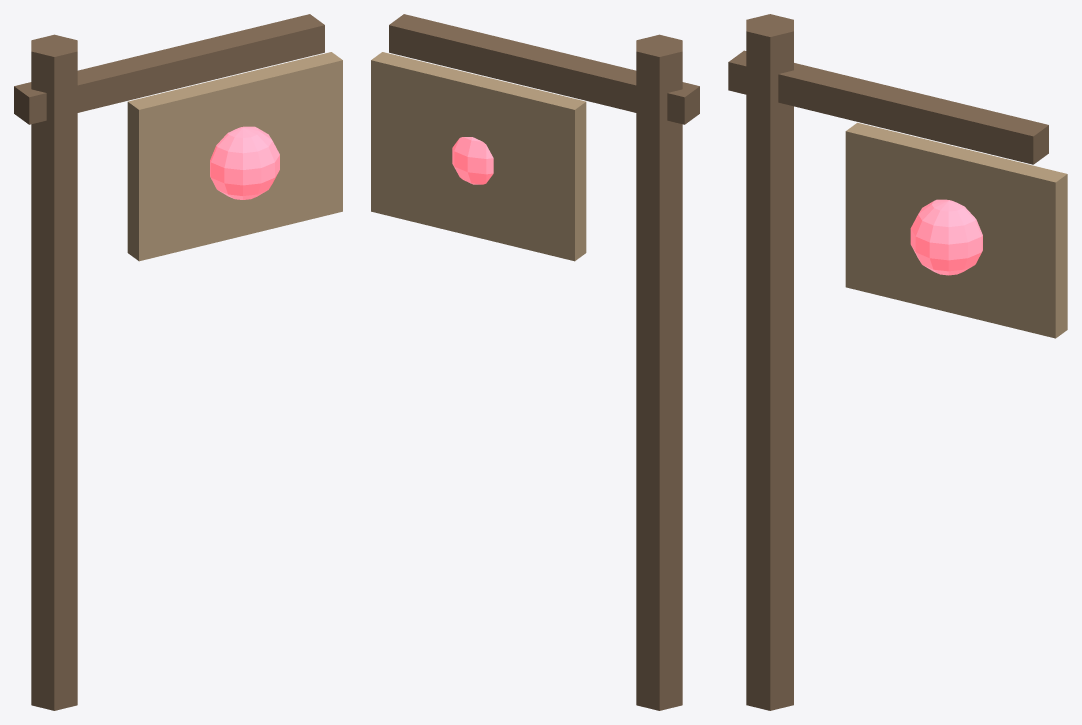
File: shop_sign.glb
3 views of the same model, side by side, from view 1: azimuth 30°, elevation 25°; view 2: azimuth 150°, elevation 25°; view 3: azimuth 330°, elevation 25° (orthographic). The views are drawn at different scales.
Visible parts, largest first — view 1: shop_sign_02, shop_sign_00, shop_sign_01, shop_sign_03; view 2: shop_sign_02, shop_sign_00, shop_sign_01, shop_sign_03; view 3: shop_sign_02, shop_sign_00, shop_sign_01, shop_sign_03.
Part boxes in pixels (bbox=[...]): shop_sign_02: bbox=[127, 52, 342, 261]; shop_sign_00: bbox=[31, 34, 77, 710]; shop_sign_01: bbox=[14, 14, 324, 124]; shop_sign_03: bbox=[210, 126, 279, 199]; shop_sign_02: bbox=[371, 52, 586, 261]; shop_sign_00: bbox=[636, 34, 682, 710]; shop_sign_01: bbox=[389, 14, 699, 124]; shop_sign_03: bbox=[452, 137, 493, 184]; shop_sign_02: bbox=[845, 122, 1067, 338]; shop_sign_00: bbox=[746, 14, 793, 710]; shop_sign_01: bbox=[728, 50, 1048, 164]; shop_sign_03: bbox=[910, 199, 982, 275].
Size of the model in its own units: 0.96 by 1.9 by 0.1981.
